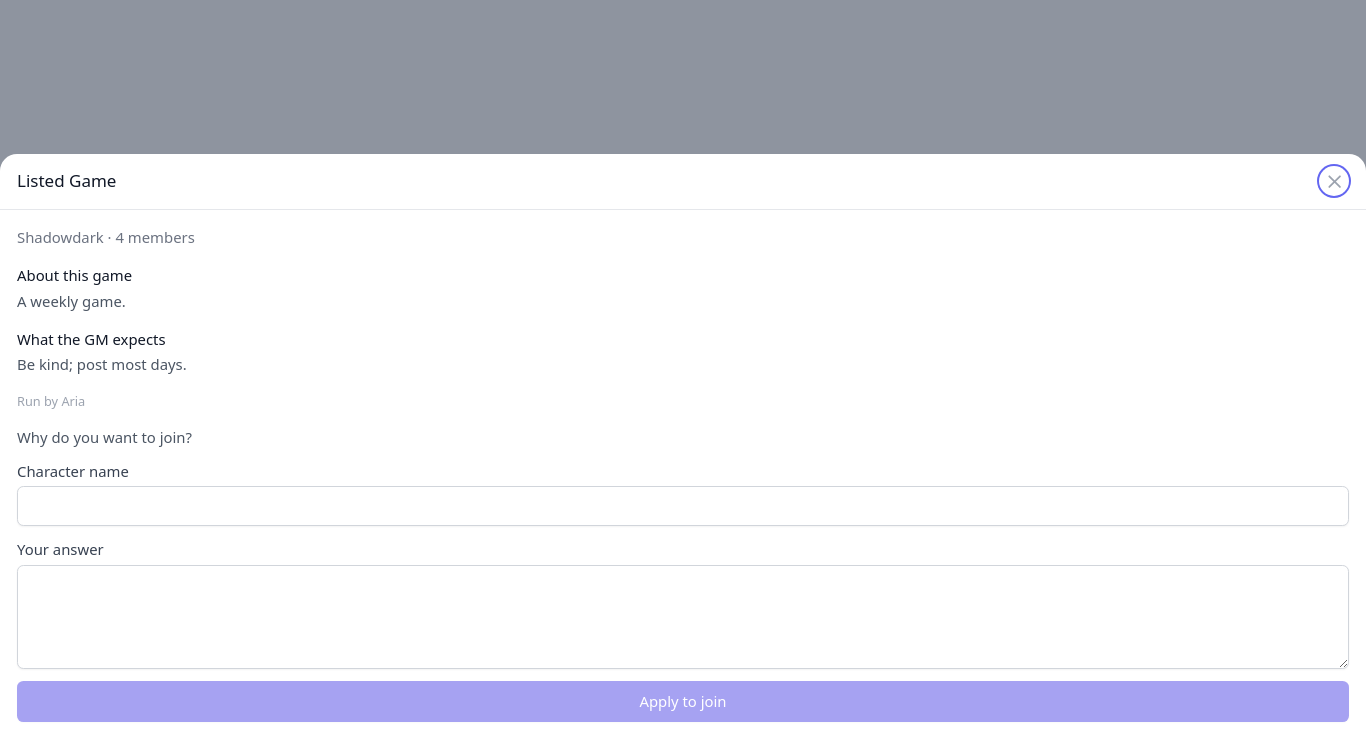
Test: PublicChannelDetailSheet › disables Apply until a character name is entered
expect the button "Apply to join" is disabled: met, box [17,681,1349,722]
In the field labelled "Character name": (683, 506) [17,486,1349,526], type "Aria"
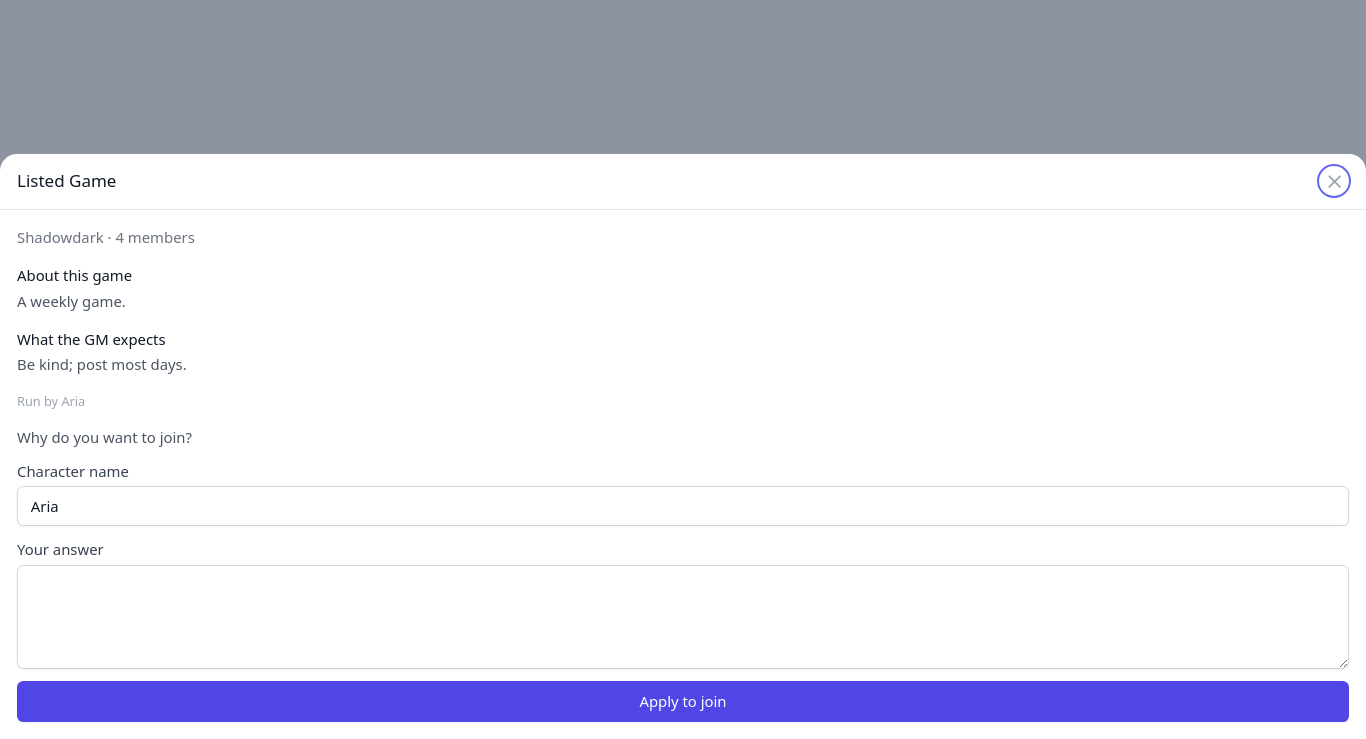
expect the button "Apply to join" is enabled: met, box [17,681,1349,722]
